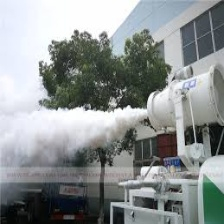smoke: (1, 106, 151, 174)
